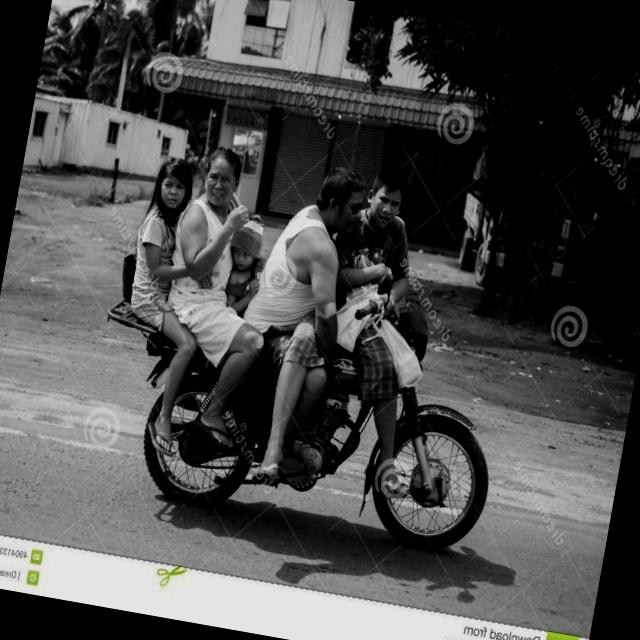motorcycle: (121, 262, 522, 568)
person: (144, 136, 286, 398), (252, 150, 389, 401), (318, 152, 430, 380), (105, 142, 218, 346), (192, 210, 281, 356)
rider_region: (76, 116, 548, 568)
